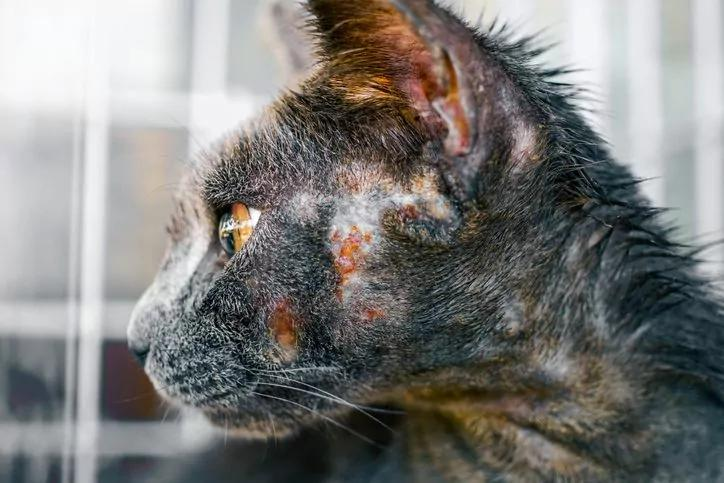ringworm: (324, 195, 375, 293), (389, 187, 459, 227), (270, 298, 306, 344), (355, 300, 387, 321)
